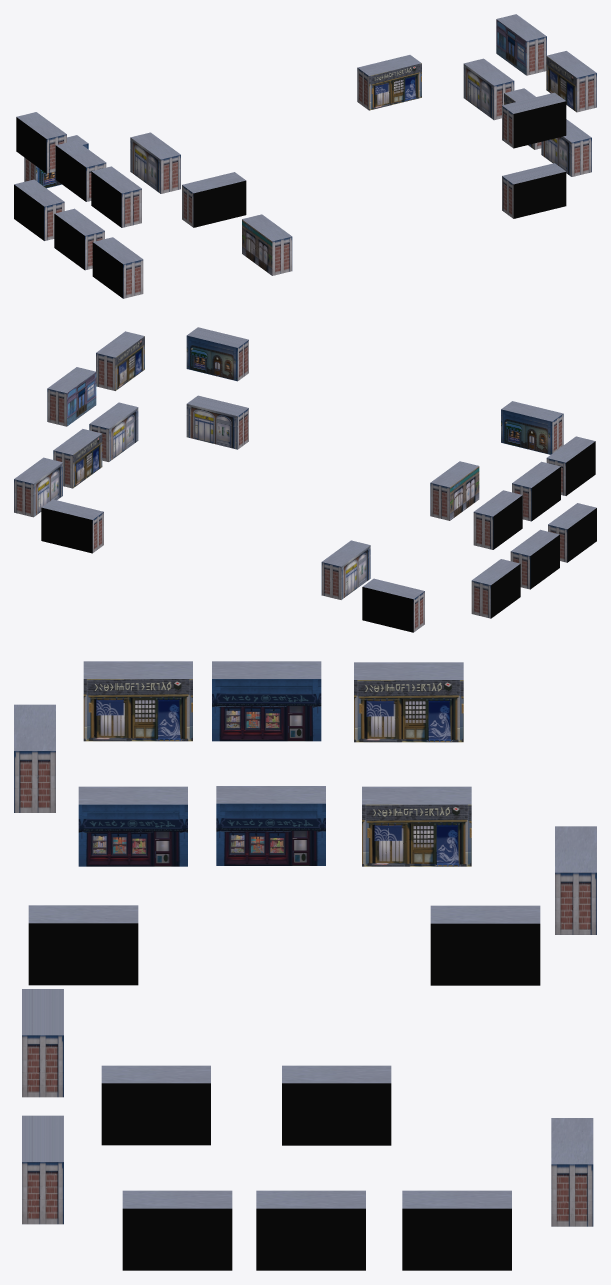
The model's file is locales.obj.
3 views of the same model, one above another, from view 1: azimuth 30°, elevation 25°; view 2: azimuth 150°, elevation 25°; view 3: azimuth 270°, elevation 25° (orthographic). The views are drawn at different scales.
Parts seen in each view (by area): view 1: group125_pasted__group123_pasted__pasted__group122_pasted__paste; view 2: group125_pasted__group123_pasted__pasted__group122_pasted__paste; view 3: group125_pasted__group123_pasted__pasted__group122_pasted__paste.
Boxes of the visible parts, x1,y1,x2,y2 form: group125_pasted__group123_pasted__pasted__group122_pasted__paste: [14, 14, 596, 298]; group125_pasted__group123_pasted__pasted__group122_pasted__paste: [14, 327, 596, 632]; group125_pasted__group123_pasted__pasted__group122_pasted__paste: [14, 661, 596, 1270].
Size of the model in its own units: 23.79 by 5 by 13.88.
Materials: 51 (50 with a texture image).
